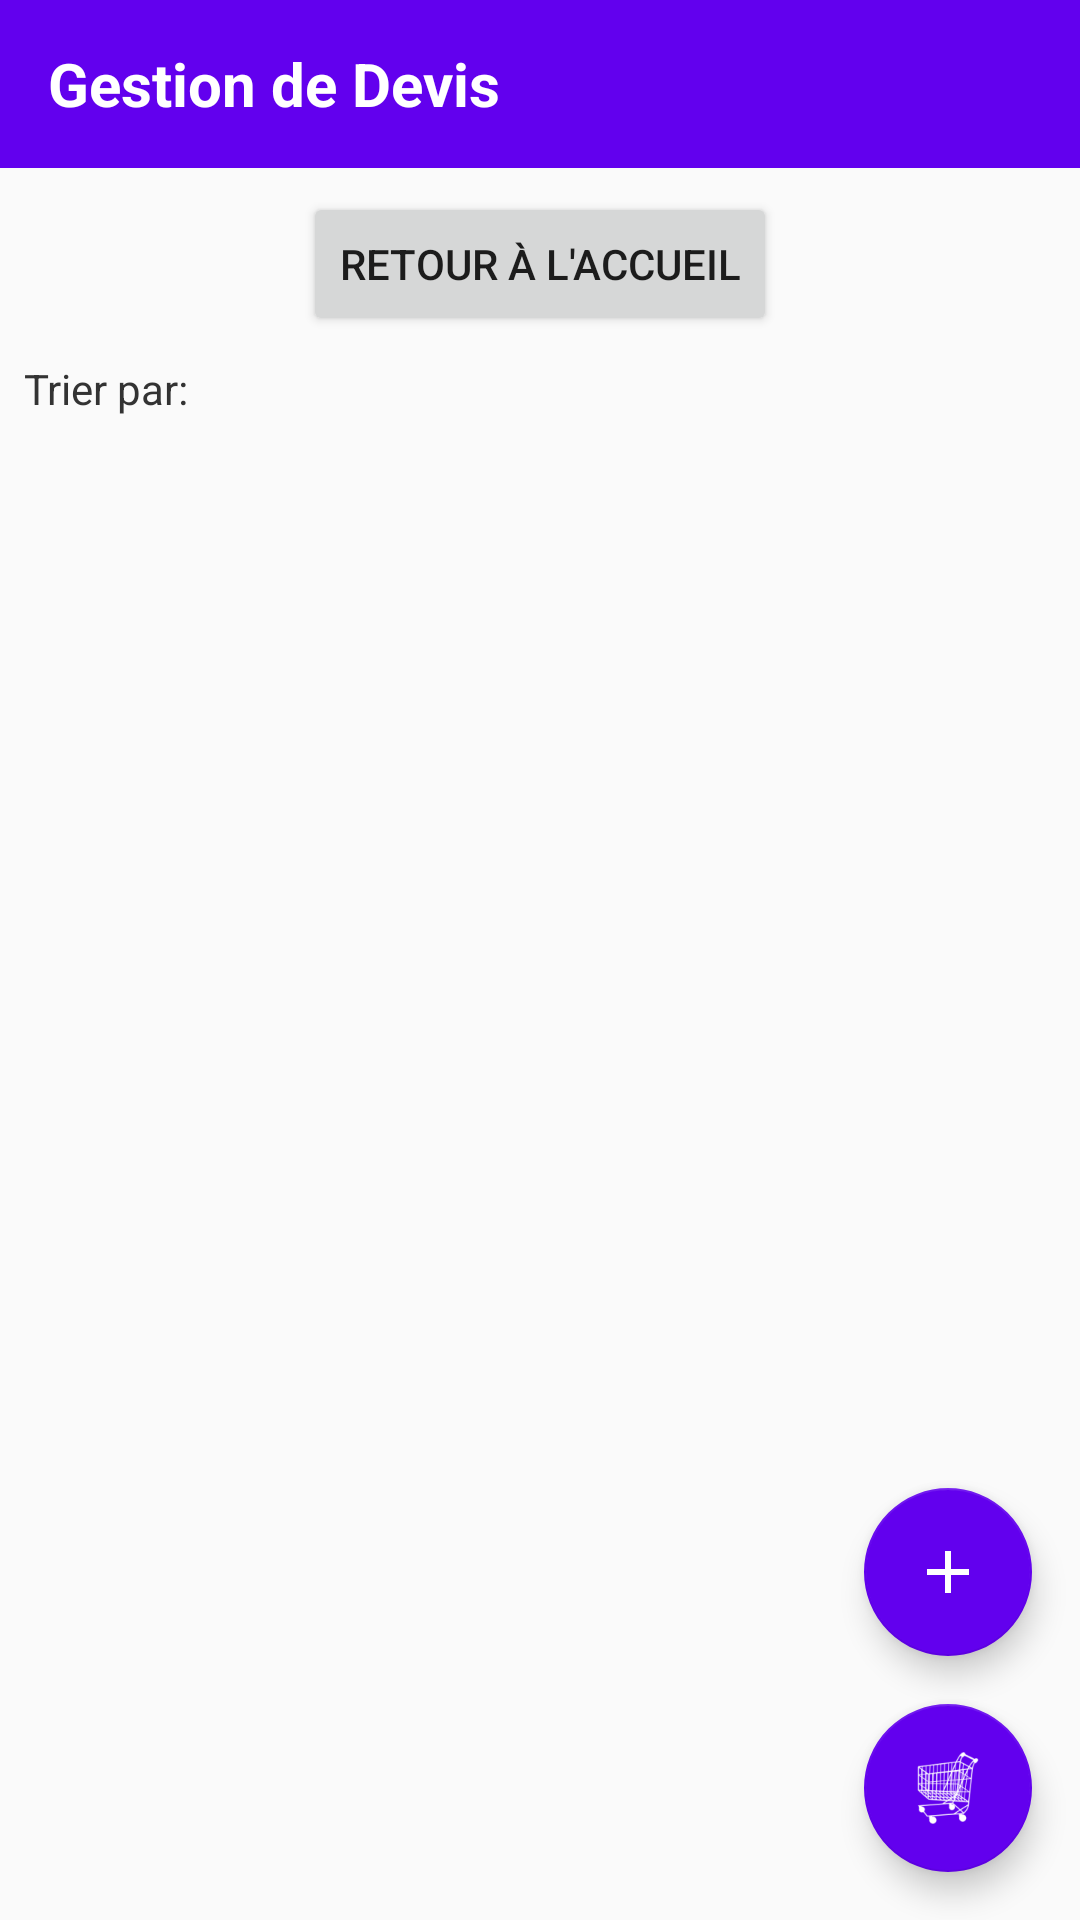

Screen size 1080 × 1920. Icon name, then its box in pixels as (left=x1, top=y1, right=x2, bottom=y2):
Ajouter produit: (left=864, top=1488, right=1032, bottom=1656)
Panier: (left=864, top=1704, right=1032, bottom=1872)
